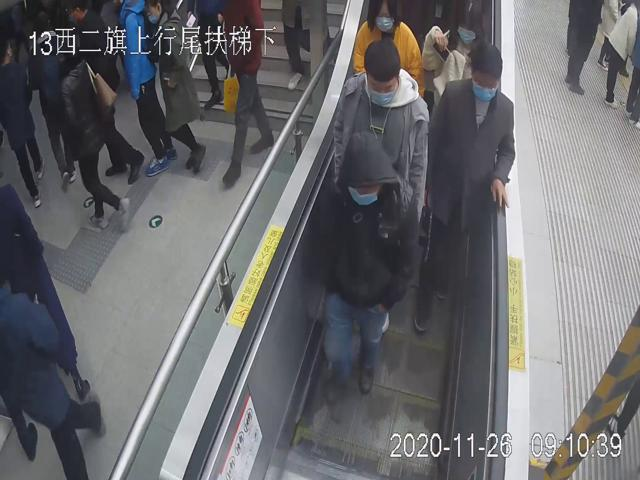person: (413, 40, 517, 333), (308, 129, 417, 406), (332, 37, 429, 236), (421, 0, 490, 116), (351, 0, 425, 101)
